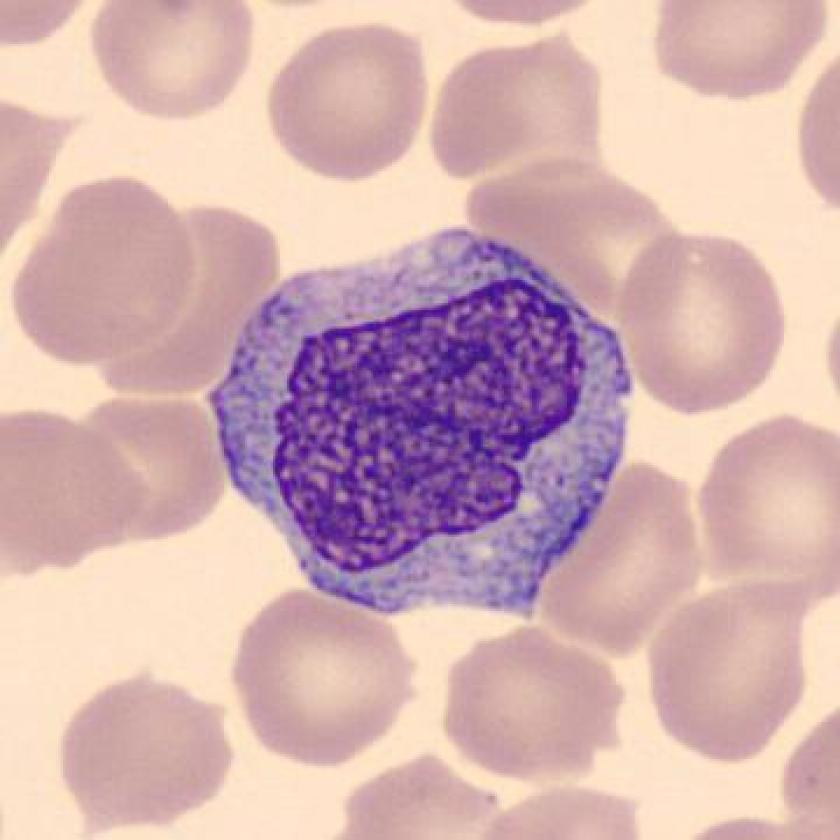monocyte: (197, 232, 650, 635)
